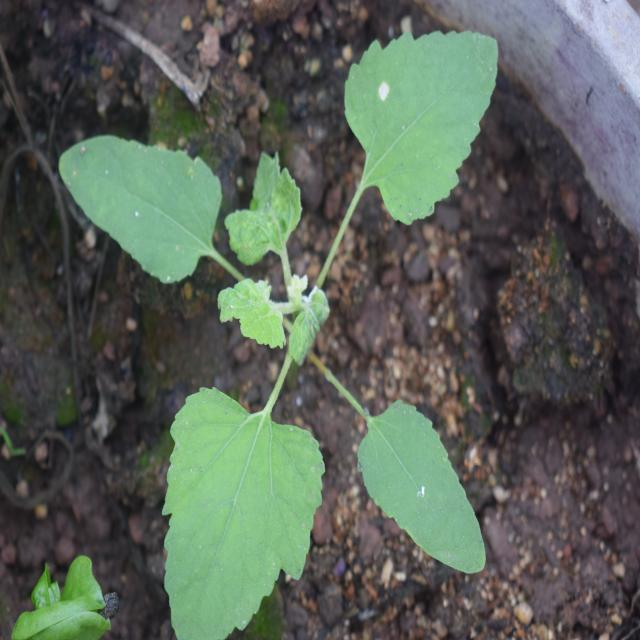cocklebur: (53, 21, 512, 590)
